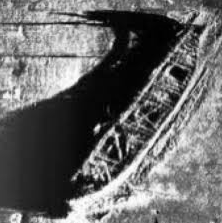ship: (68, 13, 213, 194)
